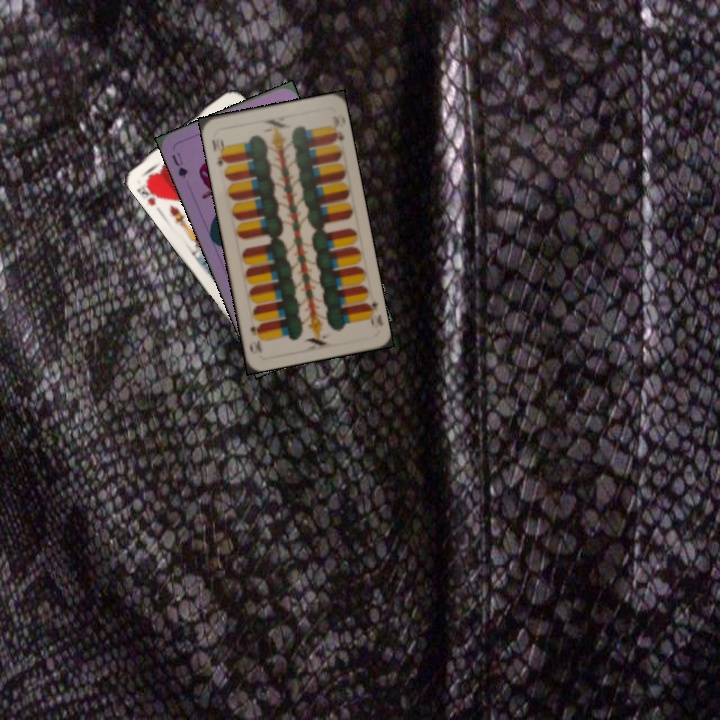E10: (360, 292, 383, 329), (208, 135, 230, 170)
GU: (168, 148, 190, 181)
HK: (133, 175, 164, 208)
